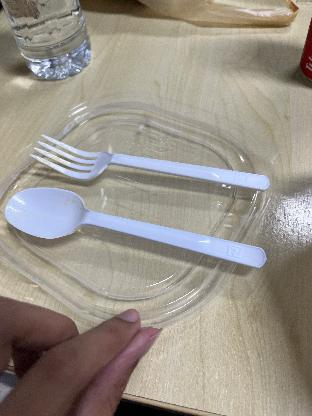Others: (4, 178, 268, 283), (31, 132, 272, 202)
